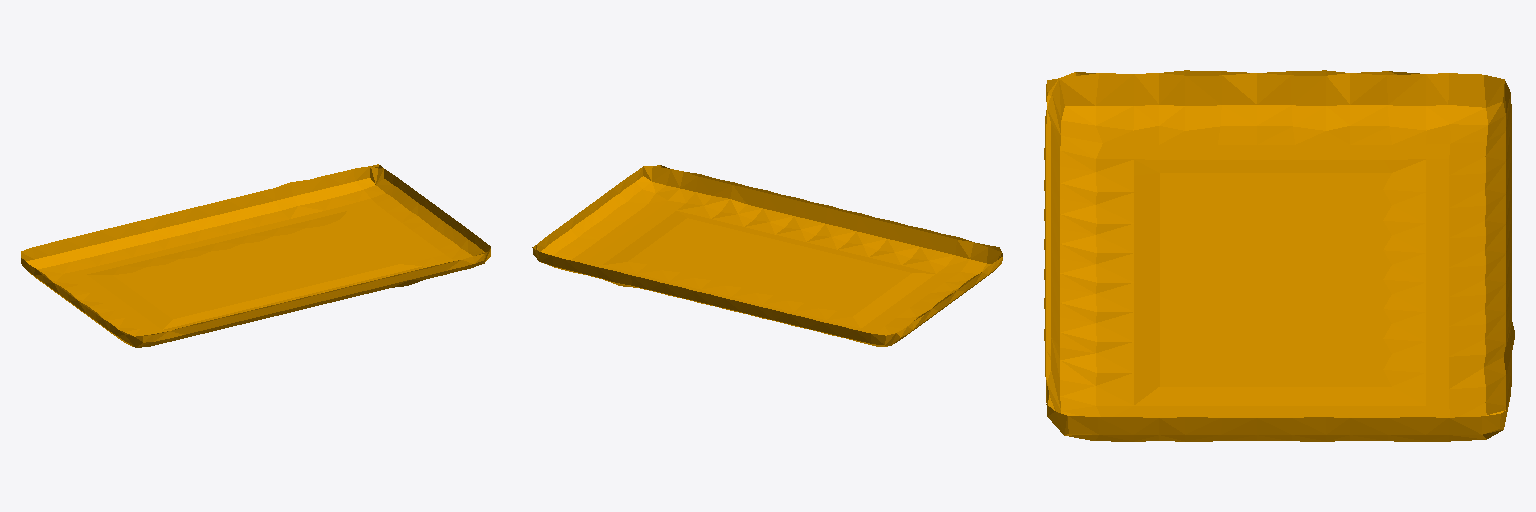
URDF robot description (shallow_tray):
<?xml version="0.0" ?>
<robot name="shallow_tray">
  <link name="base_link">
  <contact>
      <lateral_friction value="1"/>
  </contact>
    <inertial>
      <origin rpy="0 0 0" xyz="0 0 0"/>
       <mass value="0.2"/>
       <inertia ixx="0.001" ixy="0" ixz="0" iyy="0.001" iyz="0" izz="0.001"/>
    </inertial>
    <visual>
      <origin rpy="0 0 0" xyz="0 0 0"/>
      <geometry>
				<mesh filename="no_lid.obj" scale="0.01 0.01 0.01"/>
      </geometry>
       <material name="greenish">
        <texture filename="no_lid.obj.mtl"/>
      </material>
    </visual>
    <collision>
      <origin rpy="0 0 0" xyz="0 0 0"/>
      <geometry>
				<mesh filename="no_lid_simplified.obj" scale="0.01 0.01 0.01"/>
      </geometry>
    </collision>
  </link>
</robot>

--- Facts derived from the render (not from the file) ---
Views: 3 orthographic renders of the robot side by side, from view 1: azimuth 30°, elevation 25°; view 2: azimuth 150°, elevation 25°; view 3: azimuth 270°, elevation 25°.
Model shallow_tray with 1 links and 0 joints (none), rooted at base_link, posed all joints at 0.
Visible links, largest first — view 1: base_link; view 2: base_link; view 3: base_link.
Boxes of the visible links, <box> form: base_link: <box>21,164,490,347</box>; base_link: <box>532,165,1002,346</box>; base_link: <box>1044,70,1514,441</box>.
Size in the robot's own frame: 0.2456 by 0.1414 by 0.0142 metres.
Meshes: 1 distinct files referenced, 1 mesh visuals loaded (1 OBJ).
